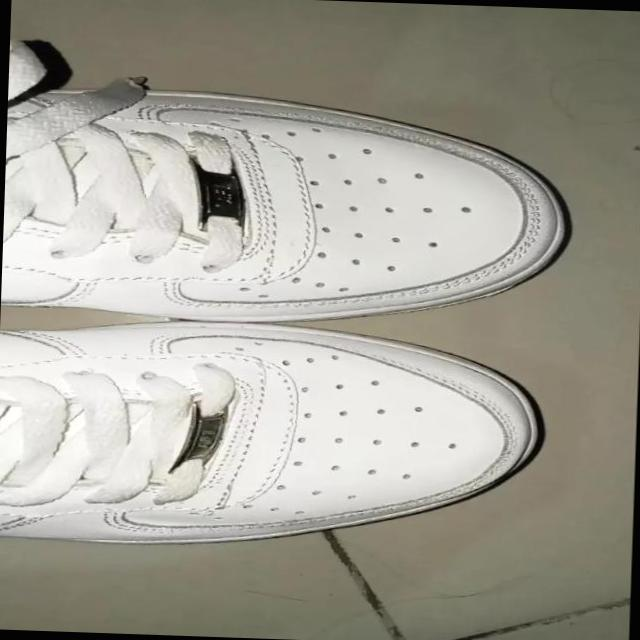nike_fake_airforce: (0, 80, 578, 335), (0, 312, 547, 561)
